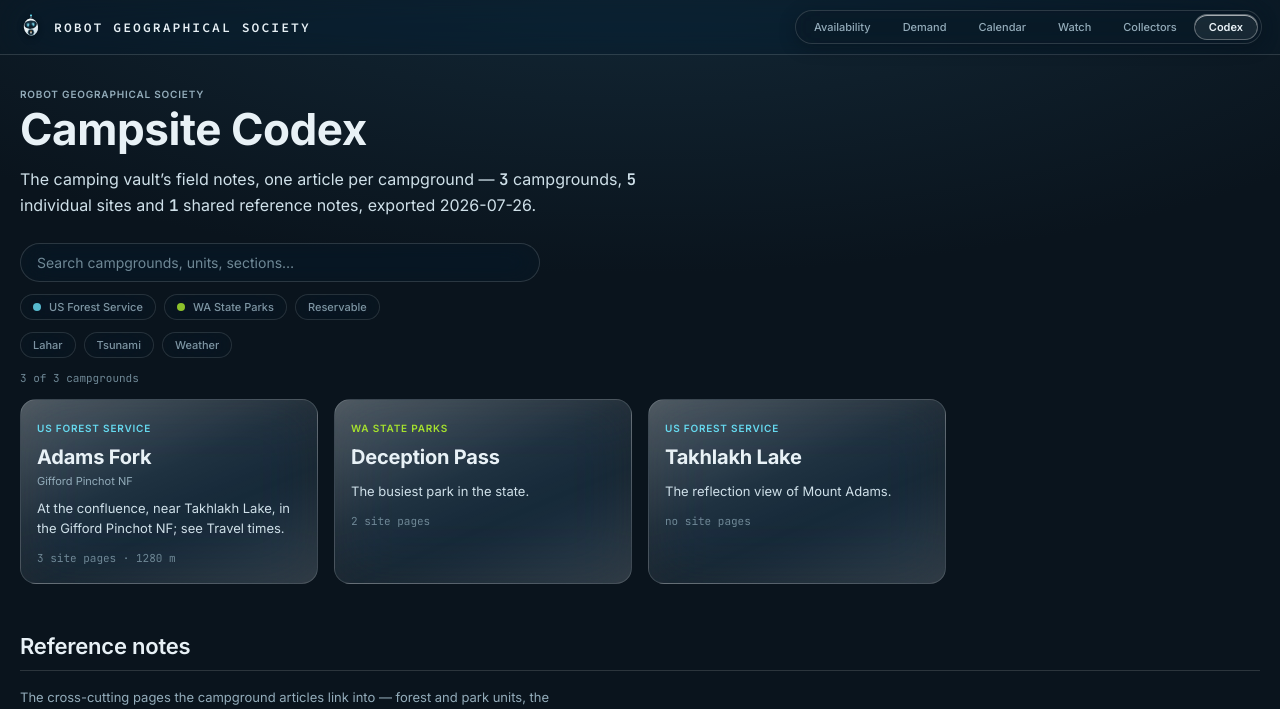
it: codex index › facets by agency and by hazard
expect the heading "Campsite Codex" is shown: met, box [20, 102, 367, 156]
Click the button "WA State Parks" at (225, 307), box [164, 294, 287, 320]
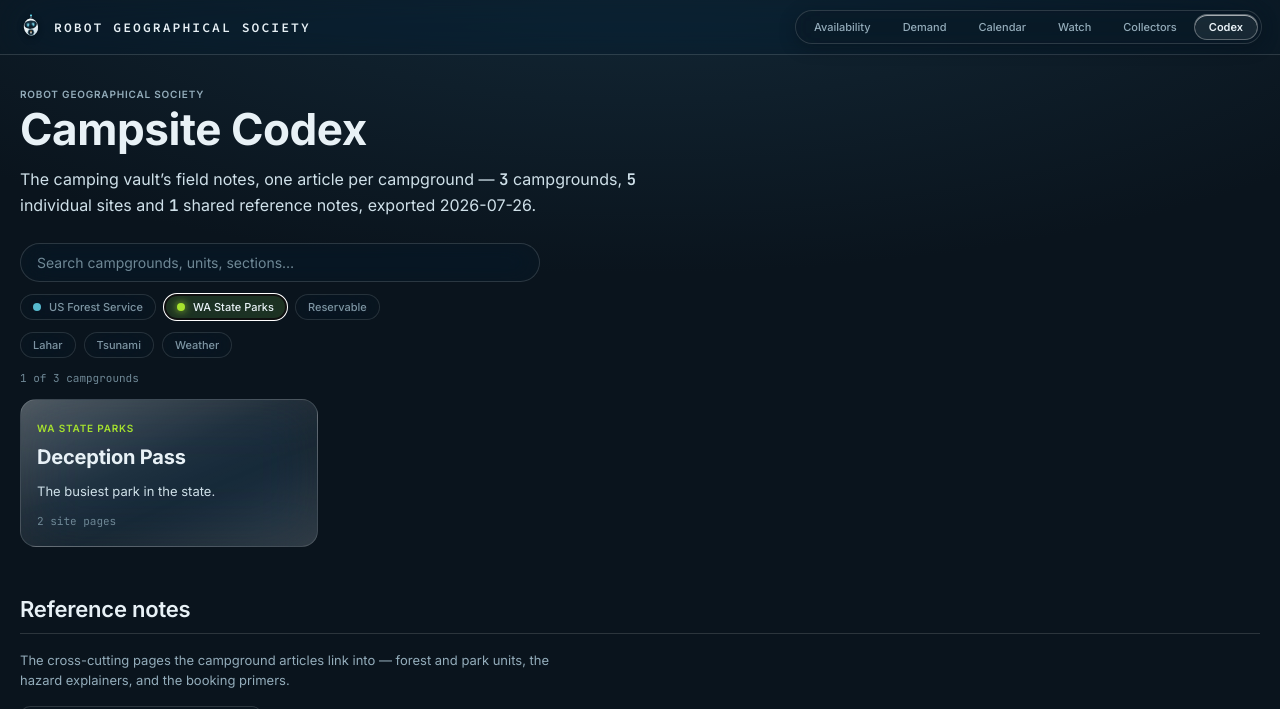
expect the heading "Deception Pass" is shown: met, box [37, 445, 186, 469]
expect the text "1 of 3 campgrounds" is shown: met, box [20, 371, 139, 385]
Click the button "WA State Parks" at (225, 307), box [164, 294, 287, 320]
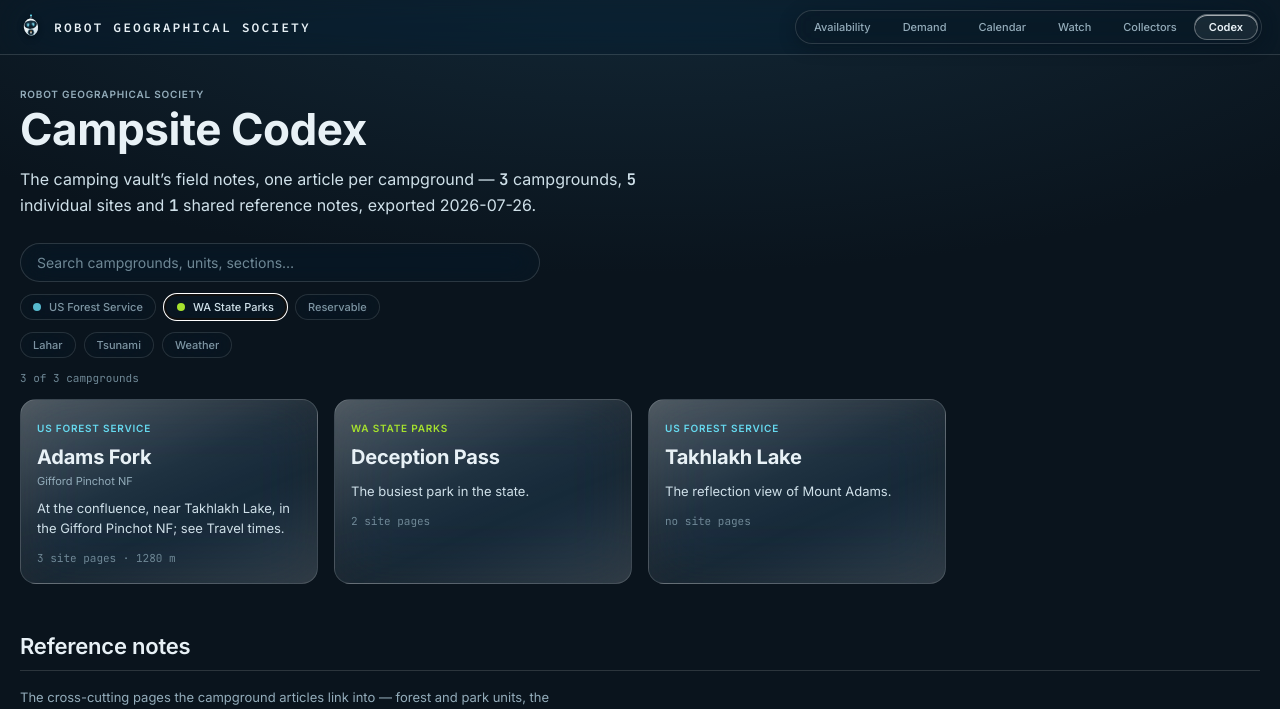
Click the button "lahar" at (48, 345), box [20, 332, 76, 358]
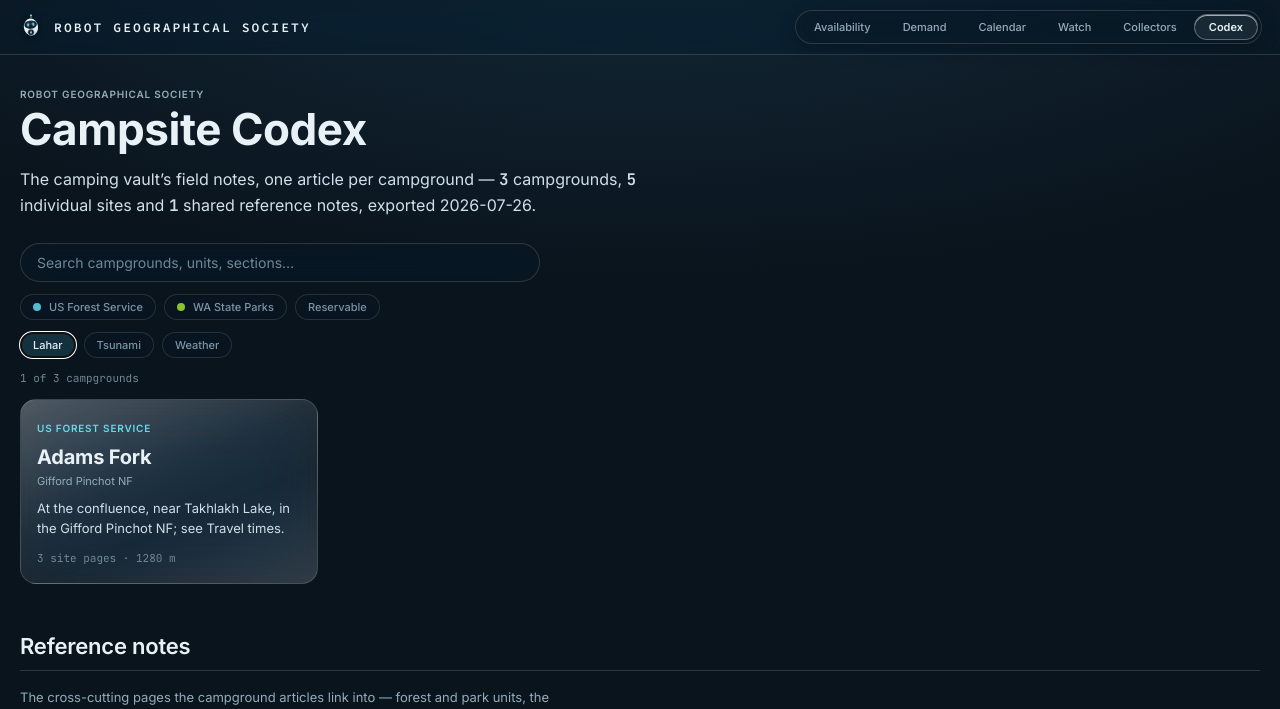
expect the heading "Adams Fork" is shown: met, box [37, 445, 151, 469]
expect the text "1 of 3 campgrounds" is shown: met, box [20, 371, 139, 385]
